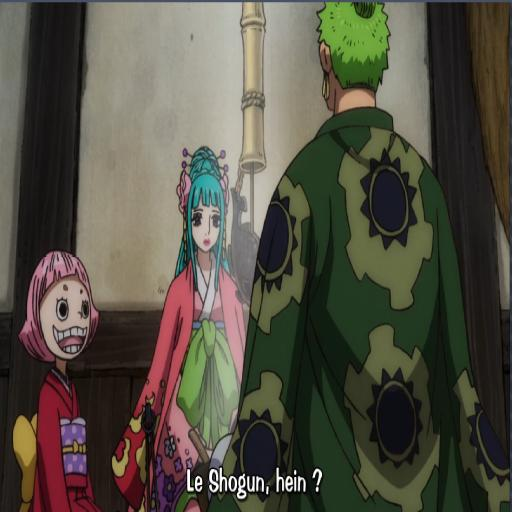Zoro: (249, 0, 500, 512)
